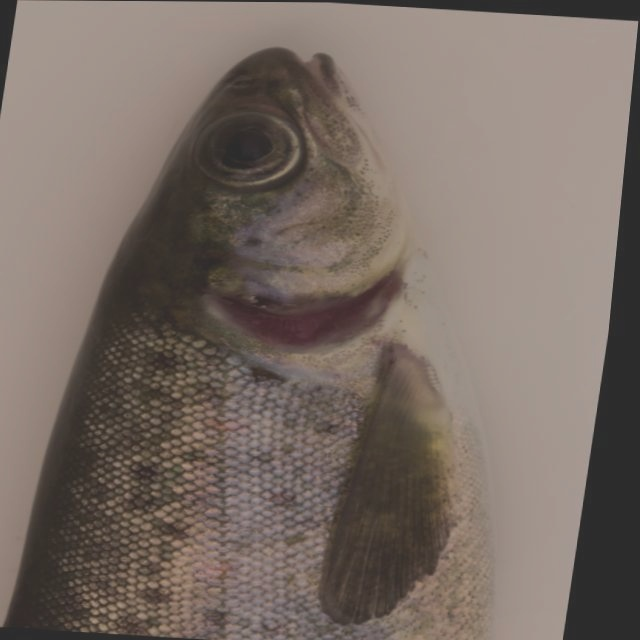Gill Disease: (79, 47, 513, 411)
